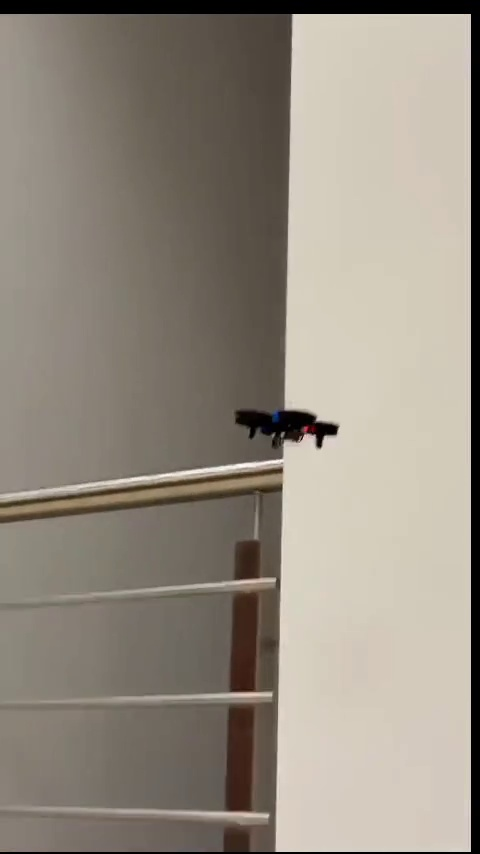drone: (238, 406, 338, 451)
